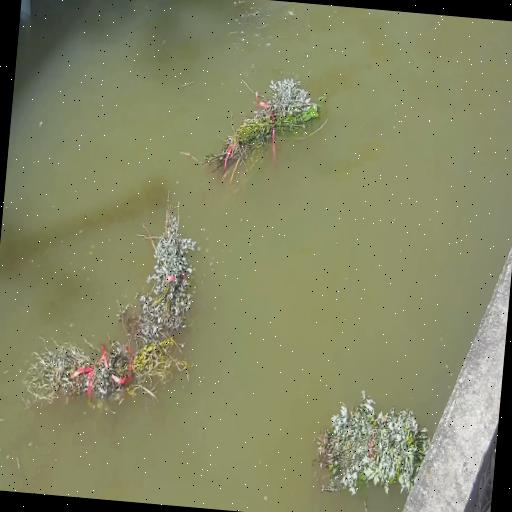twig: (199, 66, 328, 190), (309, 384, 433, 512), (24, 323, 186, 416), (132, 198, 204, 346)
